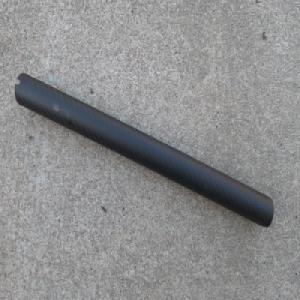LuggagePart: (14, 72, 274, 231)
